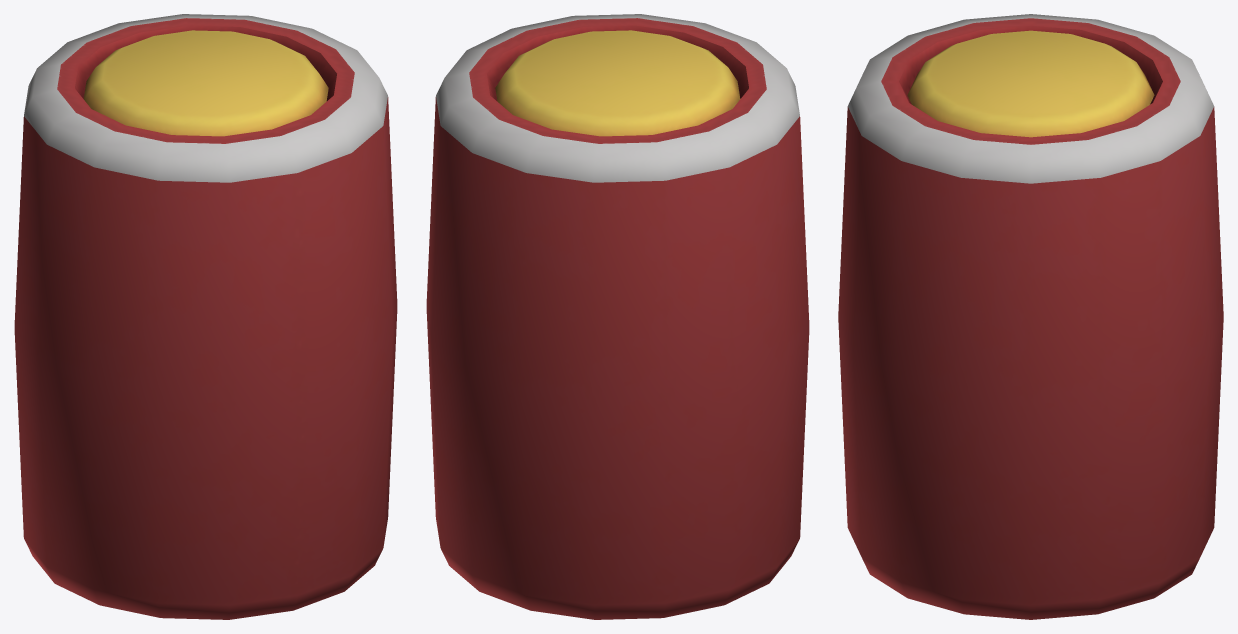
File: ThickPillar.fbx
3 renders of one model, left to right at view 1: azimuth 30°, elevation 25°; view 2: azimuth 150°, elevation 25°; view 3: azimuth 270°, elevation 25°, orthographic.
Visible parts, largest first — view 1: ThickPillar; view 2: ThickPillar; view 3: ThickPillar.
Boxes of the visible parts, x1,y1,x2,y2 form: ThickPillar: (14, 14, 397, 619); ThickPillar: (426, 14, 809, 619); ThickPillar: (838, 14, 1223, 619).
Size of the model in its own units: 152 by 207 by 152.
